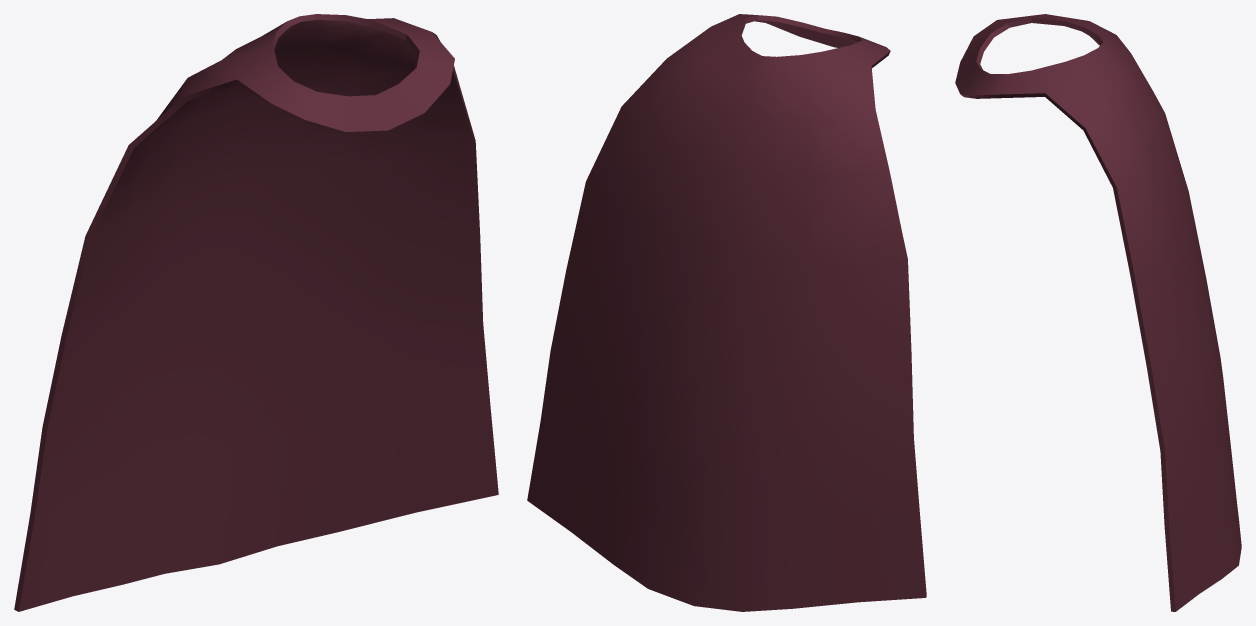
The model's file is warriorCloak.fbx.
3 renders of one model, left to right at view 1: azimuth 30°, elevation 25°; view 2: azimuth 150°, elevation 25°; view 3: azimuth 270°, elevation 25°, orthographic. The views are drawn at different scales.
Visible parts, largest first — view 1: cape; view 2: cape; view 3: cape.
Part boxes in pixels (box(x1,y1,x2,y2)): cape: box(14, 14, 498, 611); cape: box(527, 14, 926, 611); cape: box(955, 14, 1241, 611).
Bounding box in the file's own units: 0.732 × 0.8793 × 0.4512.
